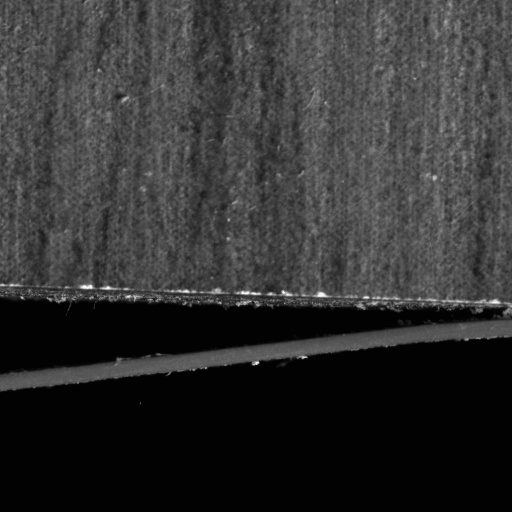kaijiao: (0, 283, 511, 397)
